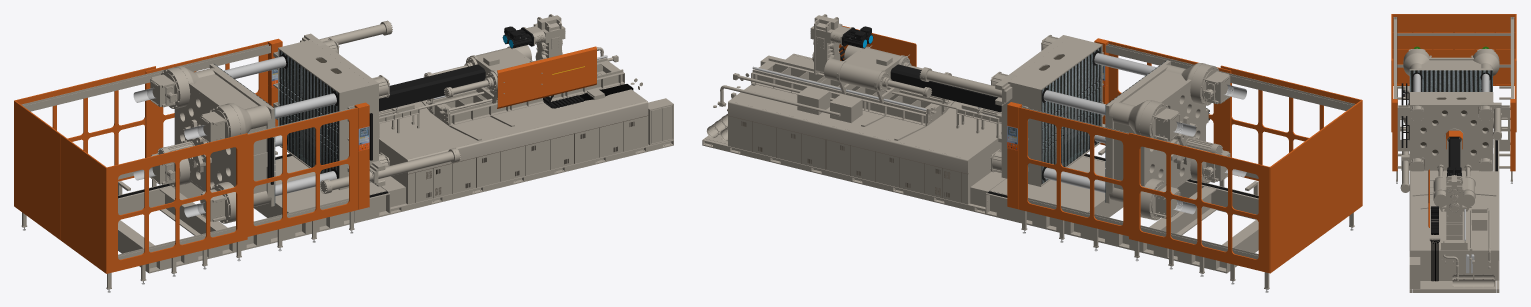
The picture shows the model from 3 angles, left to right: view 1: azimuth 30°, elevation 25°; view 2: azimuth 150°, elevation 25°; view 3: azimuth 270°, elevation 25°; orthographic projection. The views are drawn at different scales.
Visible parts, largest first — view 1: Buffer Layer (×5), Rectangle070, Line001, Box075, Box076, Rectangle071, Circle112, Rectangle037, Rectangle063, Rectangle003, Rectangle083, Rectangle080 (+25 smaller); view 2: Buffer Layer (×5), Line001, Rectangle072, Box076, Box075, Rectangle073, Circle112, Rectangle063, Rectangle004, Rectangle008, Circle189, Rectangle070 (+30 smaller); view 3: Line001, Line040, Box076, Box075, Buffer Layer (×9), Rectangle061, Circle099, Circle112, Line050, Line051, Rectangle031, Rectangle074 (+45 smaller).
Boxes of the visible parts, <box> form: Buffer Layer (×5): <box>209,63,648,206</box>; Rectangle070: <box>107,133,247,273</box>; Line001: <box>379,74,671,211</box>; Box075: <box>60,134,107,273</box>; Box076: <box>14,100,60,239</box>; Rectangle071: <box>236,107,358,236</box>; Circle112: <box>176,68,267,206</box>; Rectangle037: <box>497,46,596,108</box>; Rectangle063: <box>279,50,338,177</box>; Rectangle003: <box>145,192,390,273</box>; Rectangle083: <box>379,64,485,111</box>; Rectangle080: <box>21,44,270,111</box>; Buffer Layer (×5): <box>728,60,1170,204</box>; Line001: <box>704,55,1005,211</box>; Rectangle072: <box>1129,133,1269,272</box>; Box076: <box>1269,133,1316,273</box>; Box075: <box>1316,100,1362,239</box>; Rectangle073: <box>1018,107,1140,236</box>; Circle112: <box>1112,65,1204,202</box>; Rectangle063: <box>1041,47,1101,184</box>; Rectangle004: <box>985,191,1230,273</box>; Rectangle008: <box>990,156,1123,217</box>; Circle189: <box>1043,53,1156,192</box>; Rectangle070: <box>1220,65,1361,180</box>; Line001: <box>1412,171,1496,292</box>; Line040: <box>1409,102,1493,170</box>; Box076: <box>1454,14,1516,85</box>; Box075: <box>1391,14,1453,85</box>; Buffer Layer (×9): <box>1392,69,1515,280</box>; Rectangle061: <box>1409,70,1492,91</box>; Circle099: <box>1410,92,1492,102</box>; Circle112: <box>1410,60,1492,69</box>; Line050: <box>1403,48,1429,75</box>; Line051: <box>1473,48,1499,75</box>; Rectangle031: <box>1441,205,1467,242</box>; Rectangle074: <box>1397,108,1409,151</box>.
Size of the model in its own units: 0.1701 by 0.0399 by 0.0469.
19 materials, 3 textured.
